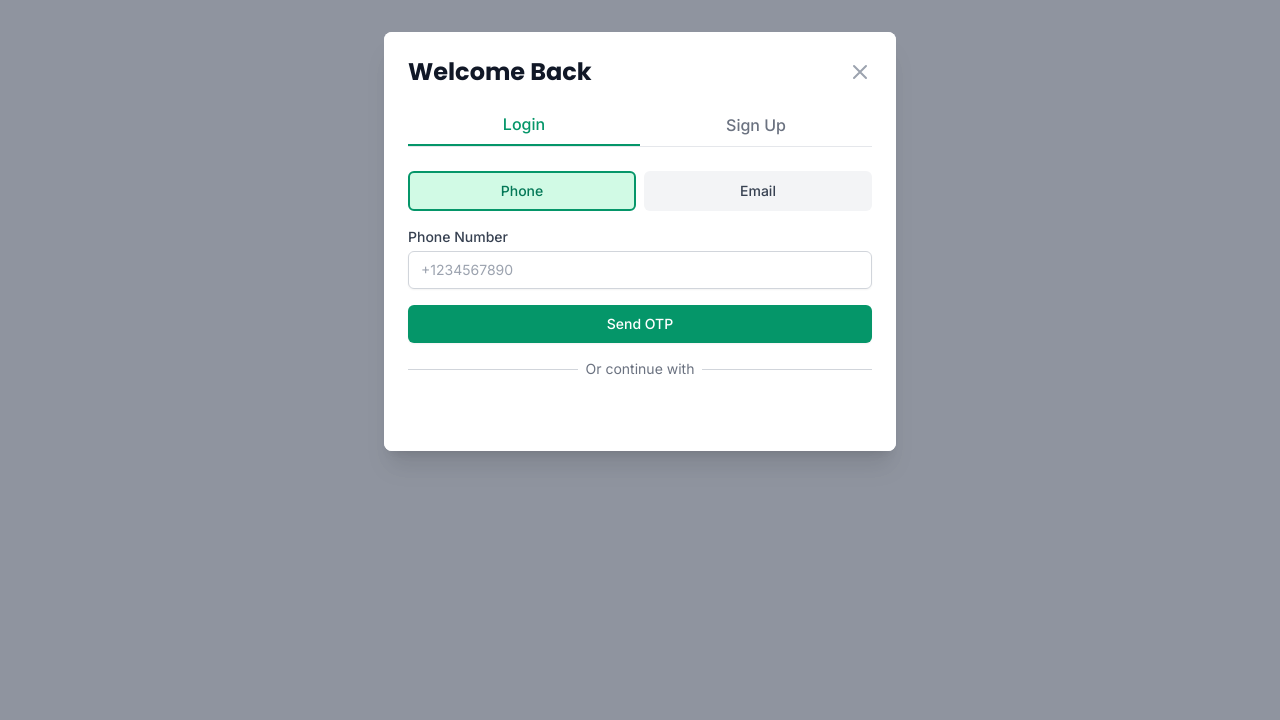
AuthModal › switches to signup form when clicking signup tab
Click the button "Sign Up".
click(756, 125)  # box [640, 104, 872, 146]
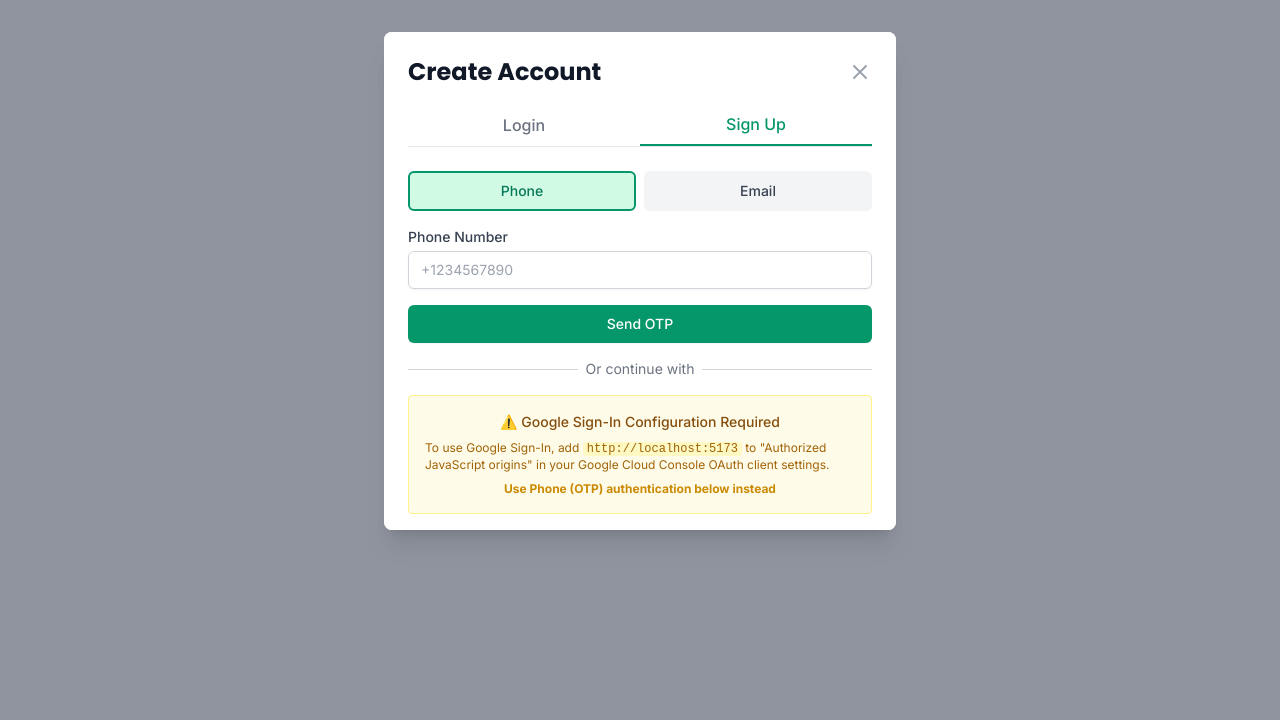
Result: the heading "Create Account" is shown at [408, 56, 601, 88]
